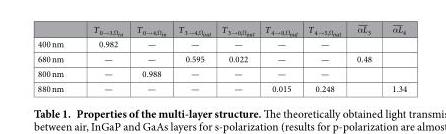table: (36, 37, 406, 94)
table column: (80, 37, 129, 94), (36, 37, 80, 94), (215, 37, 259, 94), (129, 37, 172, 94), (172, 37, 215, 94), (259, 37, 302, 94), (302, 37, 344, 94), (344, 37, 381, 94), (381, 37, 406, 94)
table row: (36, 50, 406, 65), (36, 65, 406, 80), (36, 80, 406, 94), (36, 37, 406, 50)
